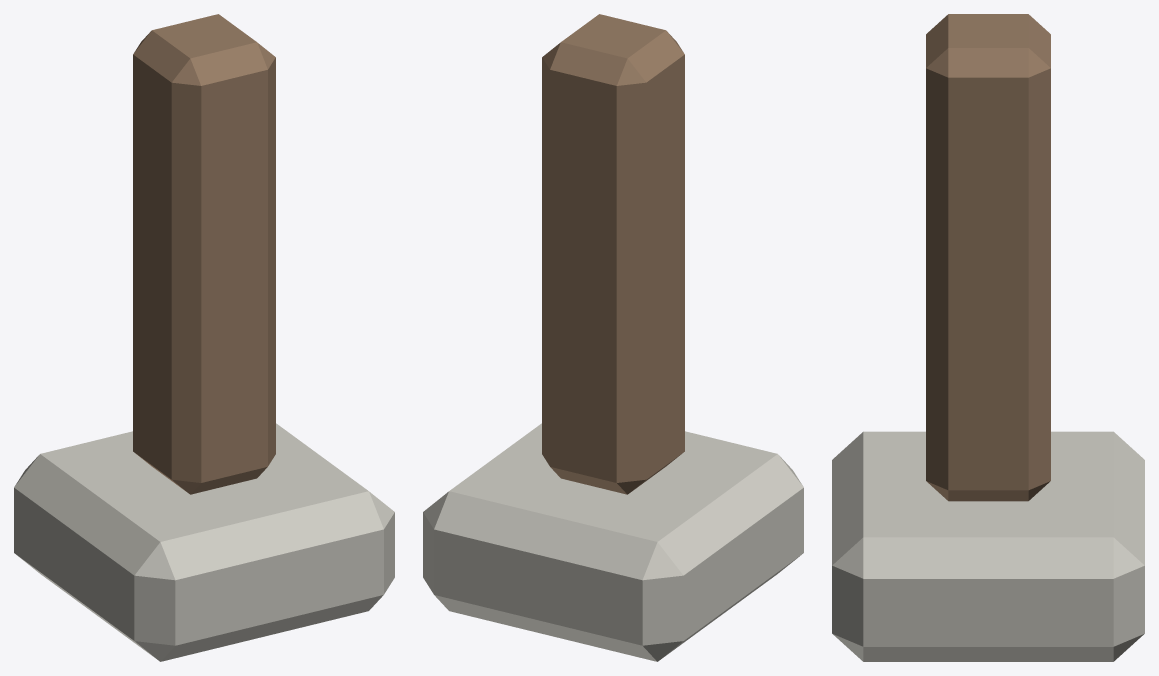
Rendered from feudal-japan-castle-town-interior-post-foot-b1dea232__26357.glb.
3 renders of one model, left to right at view 1: azimuth 30°, elevation 25°; view 2: azimuth 150°, elevation 25°; view 3: azimuth 270°, elevation 25°, orthographic. The views are drawn at different scales.
Parts seen in each view (by area): view 1: interior-post-foot; view 2: interior-post-foot; view 3: interior-post-foot.
Part boxes in pixels (x1,y1,x2,y2): interior-post-foot: [14, 14, 394, 661]; interior-post-foot: [423, 14, 803, 661]; interior-post-foot: [832, 14, 1144, 661].
Bounding box in the file's own units: 0.5 × 1.02 × 0.5.
